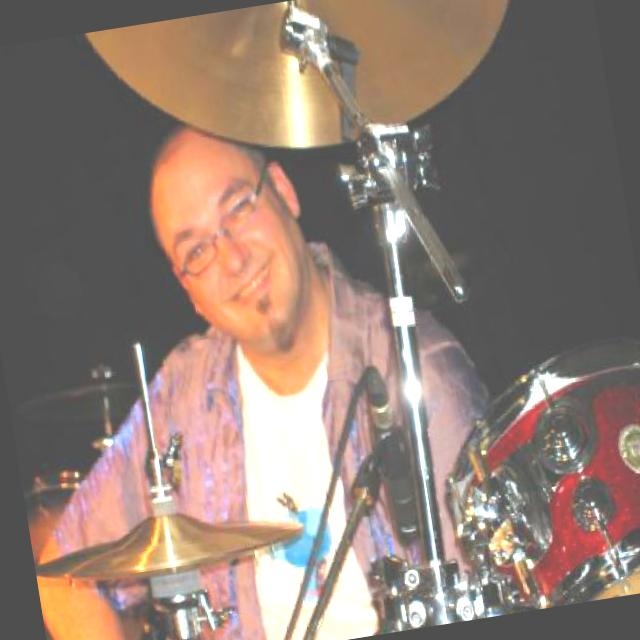Person: (0, 87, 522, 640)
